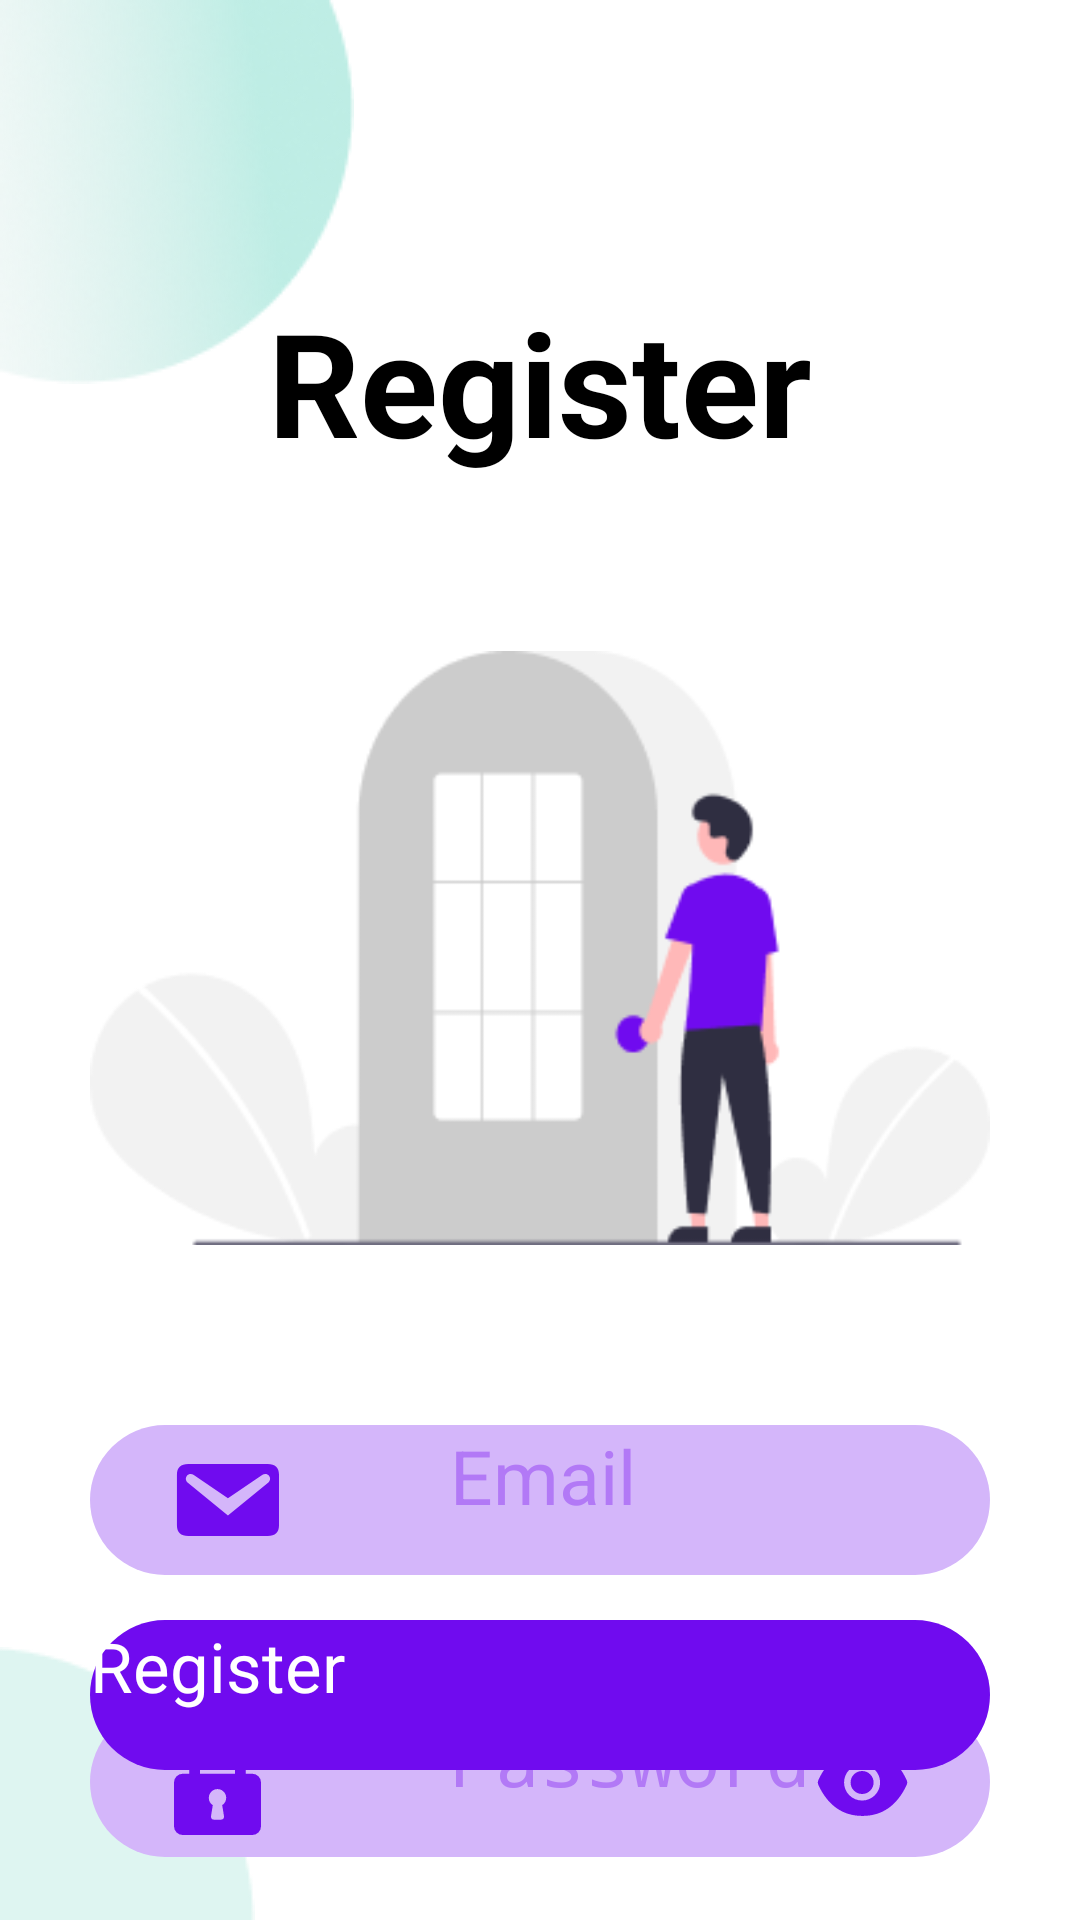

Icon click points for this 1080x1920 phone screenshot, format (x=x, y=y):
eyefilled: (x=862, y=1782)
